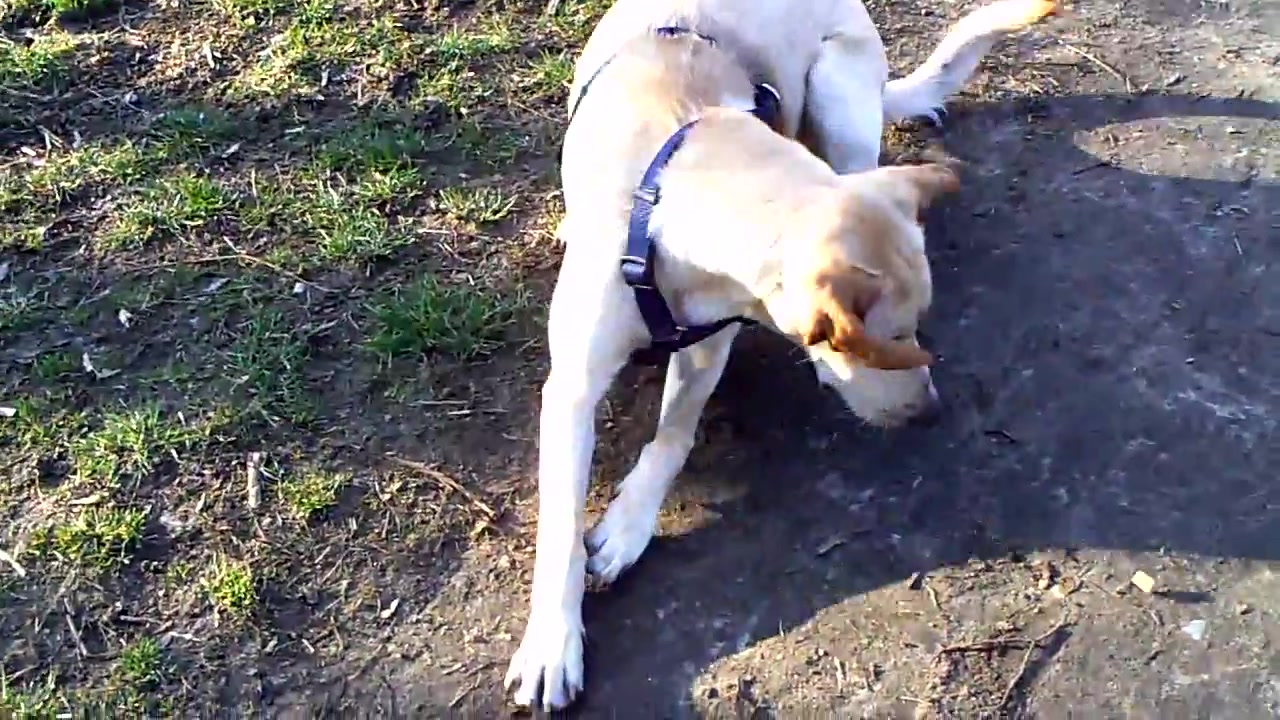dog: (503, 4, 1070, 716)
